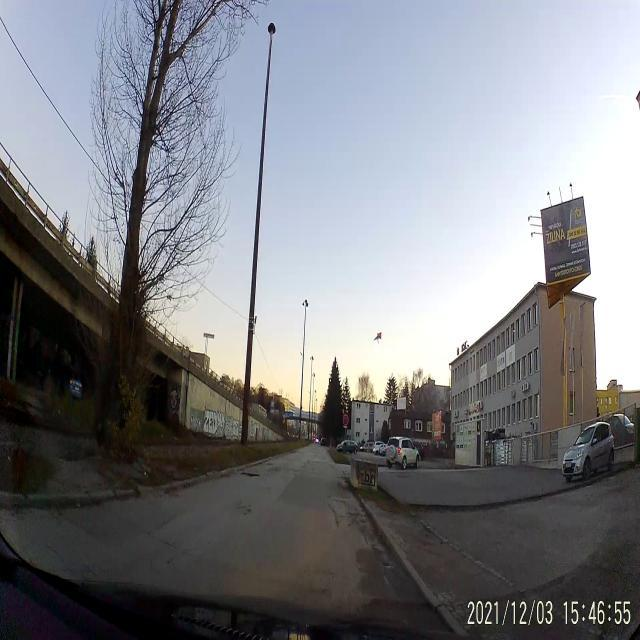Pothole: (238, 470, 260, 480)
